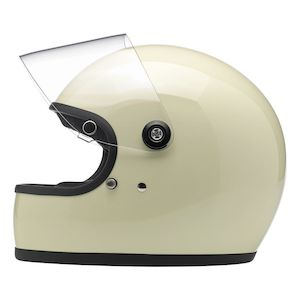with_helmet: (8, 34, 287, 264)
